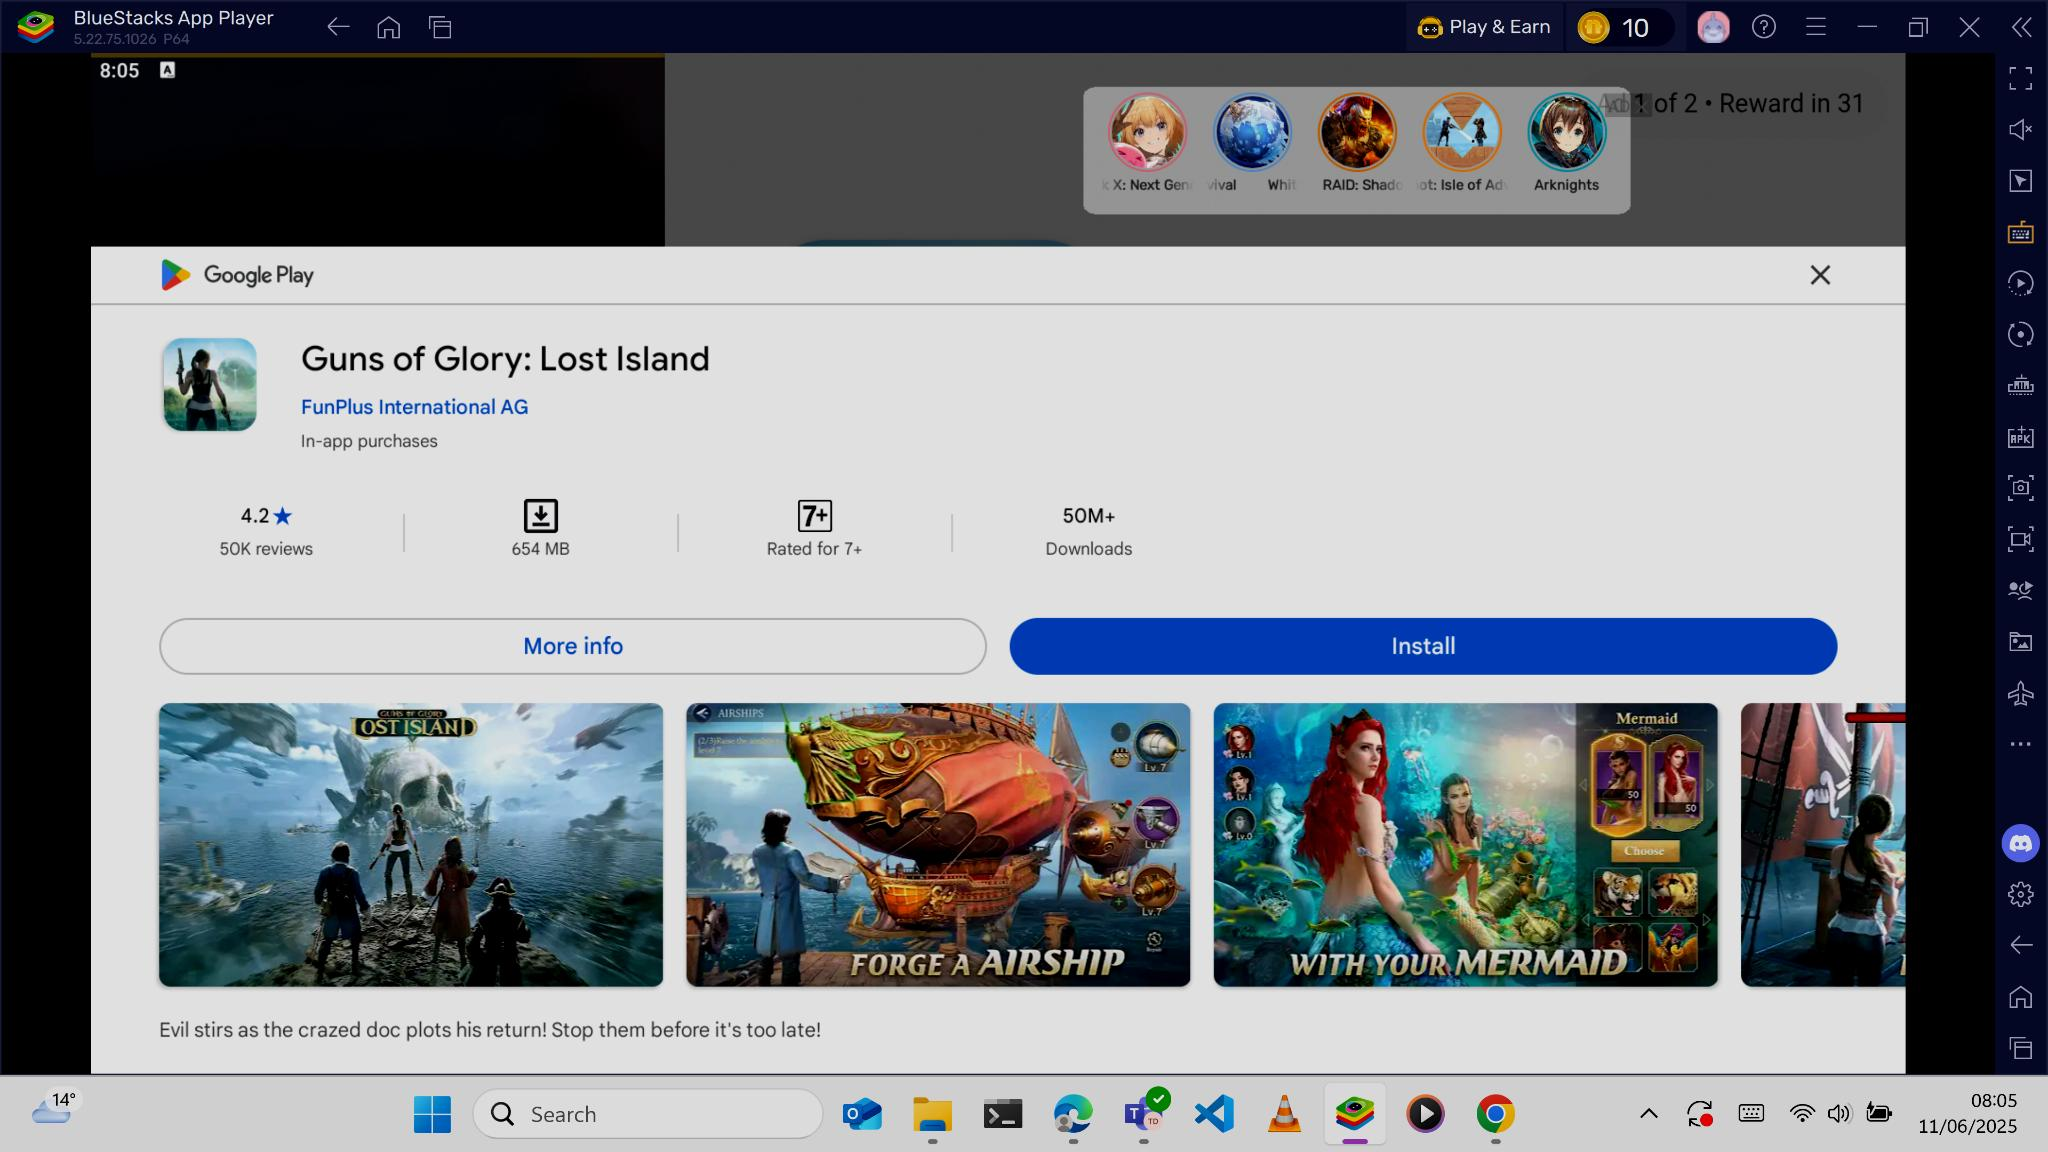close_ad: (1810, 264, 1831, 286)
